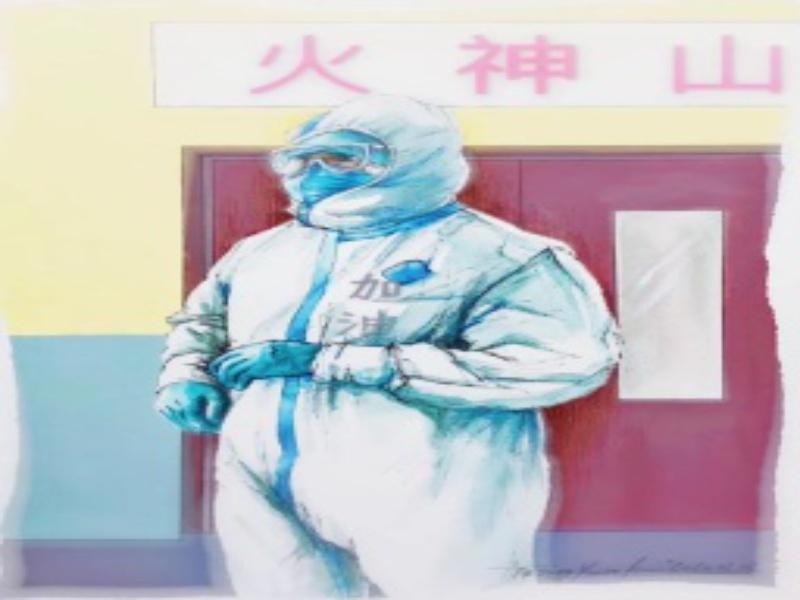ManaoArotava: (254, 111, 423, 248)
